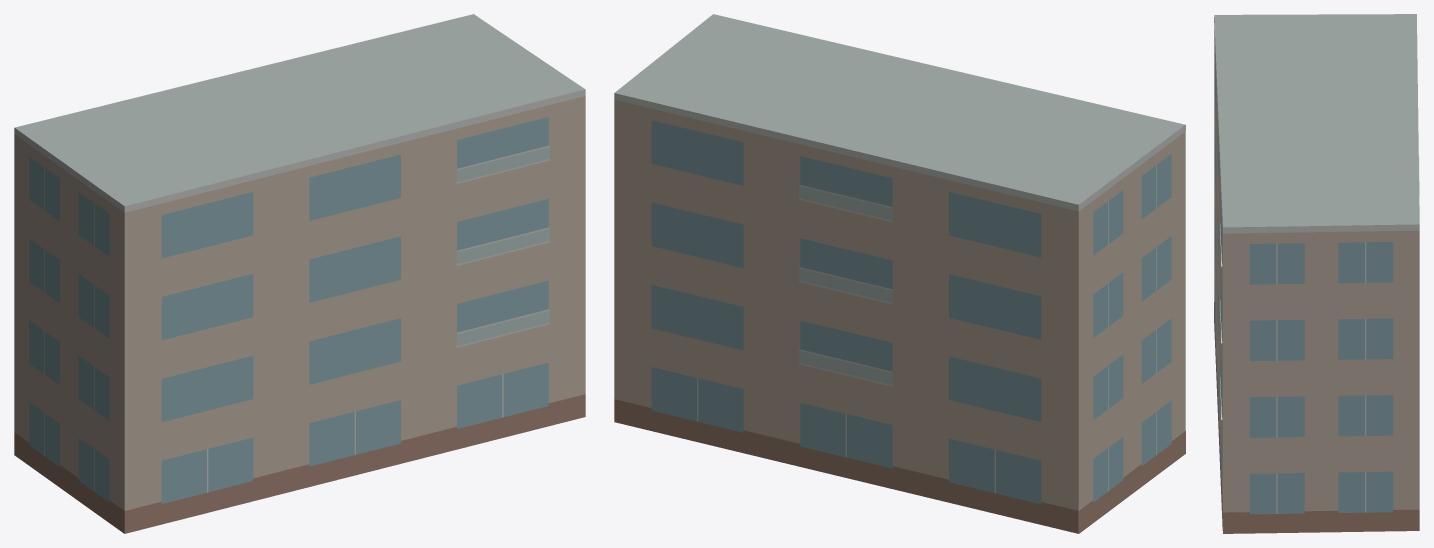
File: survey-upis-32458776.glb
3 views of the same model, side by side, from view 1: azimuth 30°, elevation 25°; view 2: azimuth 150°, elevation 25°; view 3: azimuth 270°, elevation 25° (orthographic). The views are drawn at different scales.
Parts seen in each view (by area): view 1: survey-upis-32458776.tmp; view 2: survey-upis-32458776.tmp; view 3: survey-upis-32458776.tmp.
Part boxes in pixels (box(x1,y1,x2,y2)): survey-upis-32458776.tmp: box(14, 14, 585, 533); survey-upis-32458776.tmp: box(614, 14, 1185, 533); survey-upis-32458776.tmp: box(1214, 14, 1419, 533).
Size of the model in its own units: 18.23 by 12.2 by 7.43.
